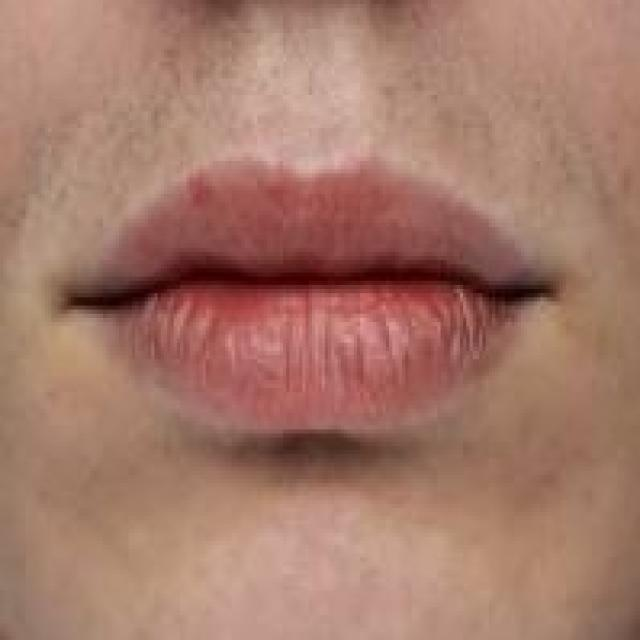closed-mouth: (56, 142, 566, 434)
